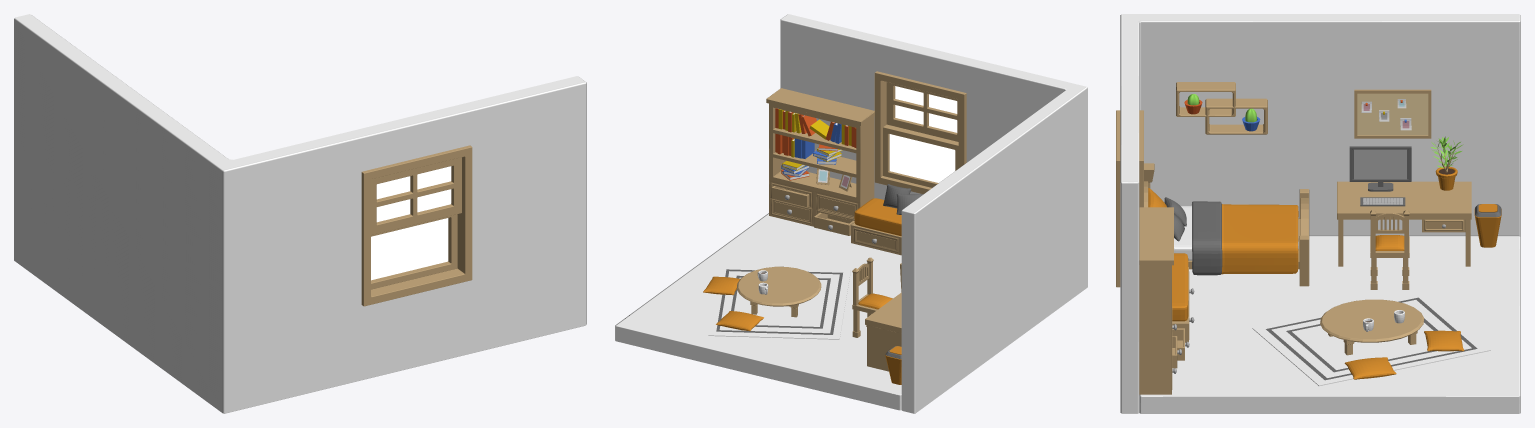
Rendered from CasualRoomModel.glb.
3 views of the same model, side by side, from view 1: azimuth 30°, elevation 25°; view 2: azimuth 150°, elevation 25°; view 3: azimuth 270°, elevation 25° (orthographic). The views are drawn at different scales.
Parts seen in each view (by area): view 1: Wall, Window; view 2: Wall, Floor, Bookshelf, Window, Carpet, Coffe table, Sofa, Table, Book.001, Chair, Book.002, Cushion.001 (+4 smaller); view 3: Wall, Floor, Bed, Carpet, Bookshelf, Table, Board, Coffe table, Wallshelf, PC, Chair, Bed frame (+8 smaller).
Part boxes in pixels (x1=…): Wall: x1=14, y1=14, x2=586, y2=413; Window: x1=361, y1=145, x2=472, y2=306; Wall: x1=780, y1=14, x2=1087, y2=413; Floor: x1=615, y1=213, x2=901, y2=410; Bookshelf: x1=766, y1=88, x2=874, y2=235; Window: x1=874, y1=71, x2=966, y2=194; Carpet: x1=708, y1=265, x2=850, y2=339; Coffe table: x1=737, y1=266, x2=821, y2=317; Sofa: x1=851, y1=198, x2=901, y2=255; Table: x1=865, y1=292, x2=901, y2=371; Book.001: x1=775, y1=108, x2=856, y2=147; Chair: x1=852, y1=257, x2=892, y2=337; Book.002: x1=775, y1=133, x2=814, y2=158; Cushion.001: x1=716, y1=311, x2=763, y2=331; Wall: x1=1120, y1=14, x2=1520, y2=413; Floor: x1=1139, y1=235, x2=1520, y2=413; Bed: x1=1174, y1=201, x2=1298, y2=275; Carpet: x1=1252, y1=292, x2=1490, y2=386; Bookshelf: x1=1139, y1=207, x2=1189, y2=394; Table: x1=1337, y1=181, x2=1471, y2=266; Board: x1=1354, y1=89, x2=1431, y2=138; Coffe table: x1=1320, y1=299, x2=1424, y2=355; Wallshelf: x1=1176, y1=82, x2=1267, y2=134; PC: x1=1349, y1=146, x2=1411, y2=191; Chair: x1=1370, y1=210, x2=1409, y2=289; Bed frame: x1=1144, y1=163, x2=1309, y2=286.
Size of the model in its own units: 8.4 by 5.37 by 8.49.
